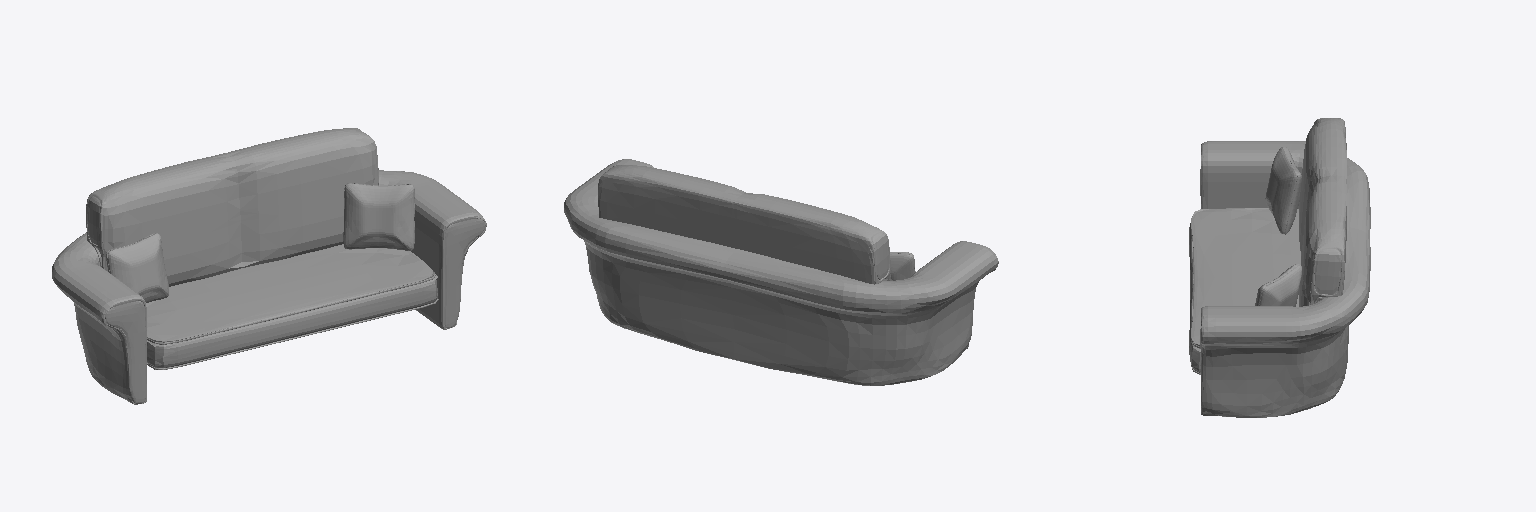
Rendered from sofa_3.5.15.obj.
The picture shows the model from 3 angles: view 1: azimuth 30°, elevation 25°; view 2: azimuth 150°, elevation 25°; view 3: azimuth 270°, elevation 25°; orthographic projection.
Parts seen in each view (by area): view 1: Cube.002_Cube.013, Cube.001_Cube.008, Cube_Cube.002, pilow_right_Cube.001, pilov_left_Cube.001; view 2: Cube_Cube.002, Cube.002_Cube.013, pilov_left_Cube.001; view 3: Cube_Cube.002, Cube.001_Cube.008, Cube.002_Cube.013, pilov_left_Cube.001, pilow_right_Cube.001.
Boxes of the visible parts, box(x1,y1,x2,y2) form: Cube.002_Cube.013: box(86, 128, 378, 286); Cube.001_Cube.008: box(146, 244, 438, 369); Cube_Cube.002: box(52, 170, 486, 404); pilow_right_Cube.001: box(343, 183, 414, 250); pilov_left_Cube.001: box(106, 233, 168, 302); Cube_Cube.002: box(564, 159, 998, 385); Cube.002_Cube.013: box(598, 165, 892, 284); pilov_left_Cube.001: box(890, 252, 914, 280); Cube_Cube.002: box(1200, 141, 1370, 417); Cube.001_Cube.008: box(1189, 208, 1300, 374); Cube.002_Cube.013: box(1299, 118, 1346, 306); pilov_left_Cube.001: box(1265, 147, 1301, 234); pilow_right_Cube.001: box(1255, 264, 1301, 306).
Bounding box in the file's own units: 7.37 × 2.98 × 3.